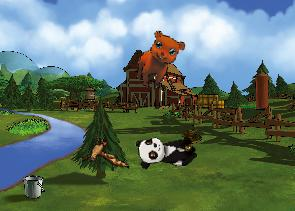bear: (133, 28, 187, 94)
eagle: (78, 133, 129, 175)
panda: (135, 132, 198, 170)
